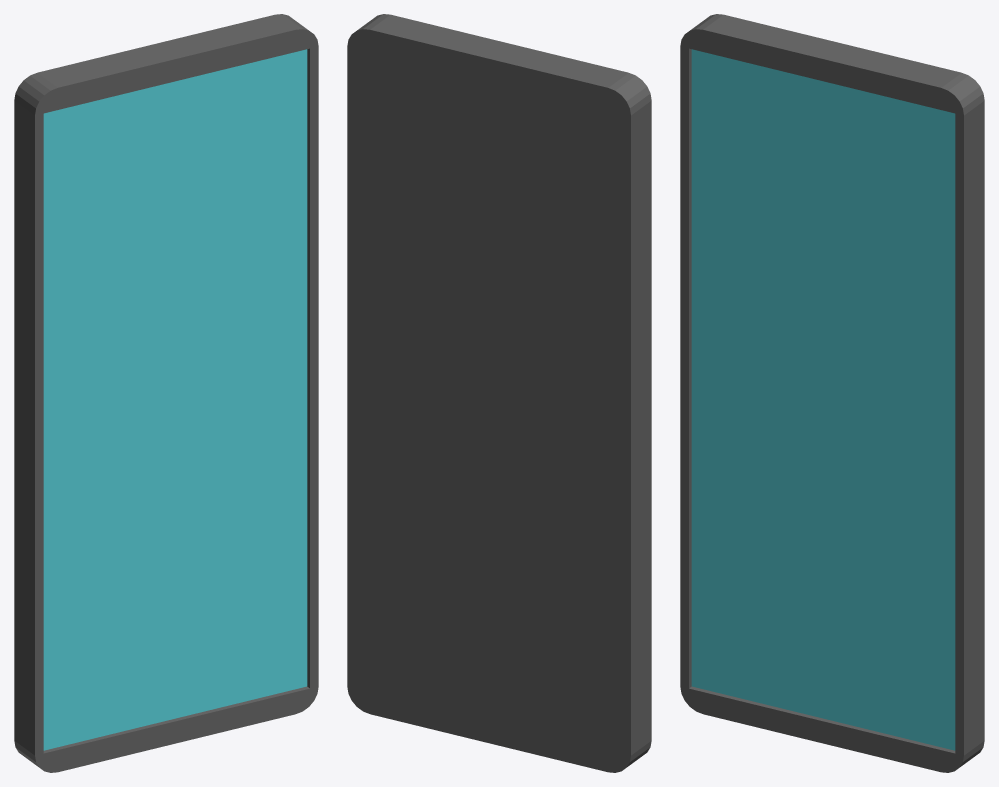
Rendered from MESH_Folgorazione_Telefono.fbx.
3 views of the same model, side by side, from view 1: azimuth 30°, elevation 25°; view 2: azimuth 150°, elevation 25°; view 3: azimuth 330°, elevation 25° (orthographic).
Parts seen in each view (by area): view 1: Schermo, Telefono; view 2: Telefono; view 3: Schermo, Telefono.
Part boxes in pixels (x1,y1,x2,y2): Schermo: (43, 49, 307, 750); Telefono: (14, 14, 318, 772); Telefono: (347, 14, 651, 772); Schermo: (691, 49, 955, 750); Telefono: (680, 14, 984, 772).
Bounding box in the file's own units: 7.62 × 17.57 × 0.9627.
